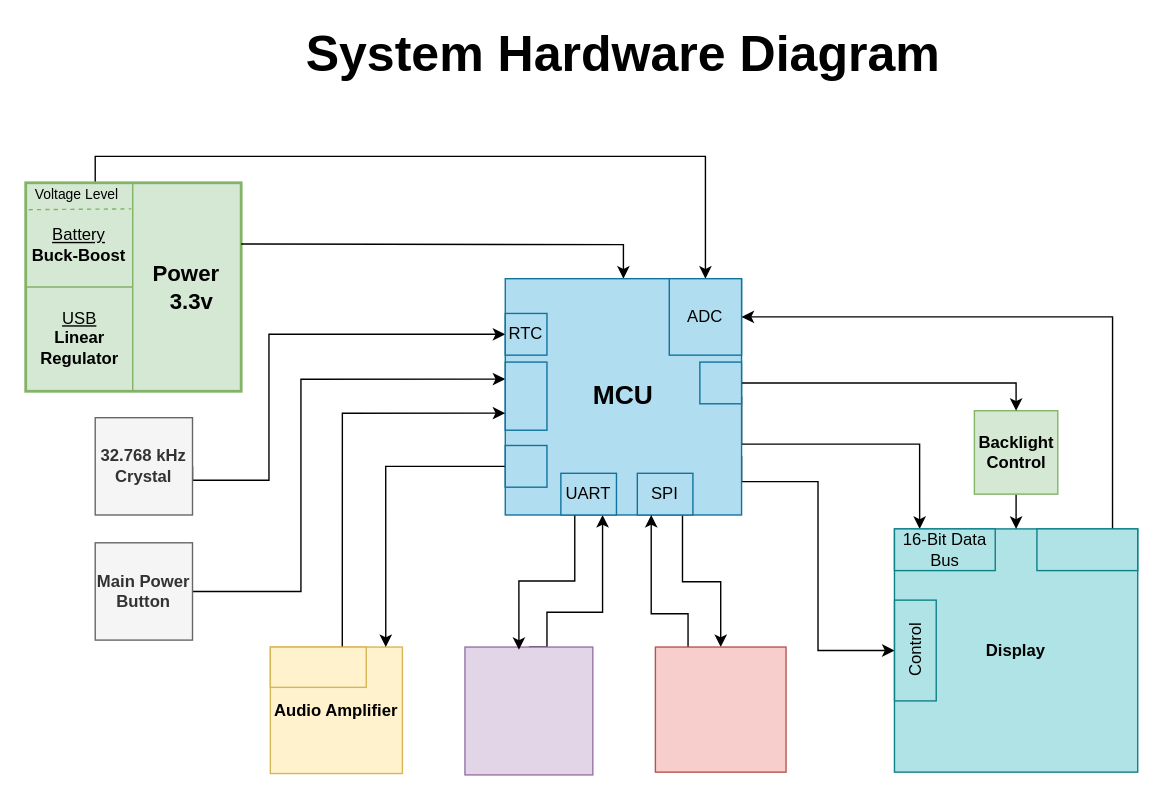
This 1162x799 diagram has some shape labels left out. Each missing label, with the box of its shape:
DAC: (504, 444, 547, 487)
External FLASH (SD Card): (654, 646, 786, 772)
EXTI: (504, 361, 547, 430)
Headphone Sense: (269, 646, 366, 687)
PWM: (698, 361, 742, 404)
Serial Port: (464, 646, 593, 775)
Touch Position: (1036, 528, 1138, 571)
